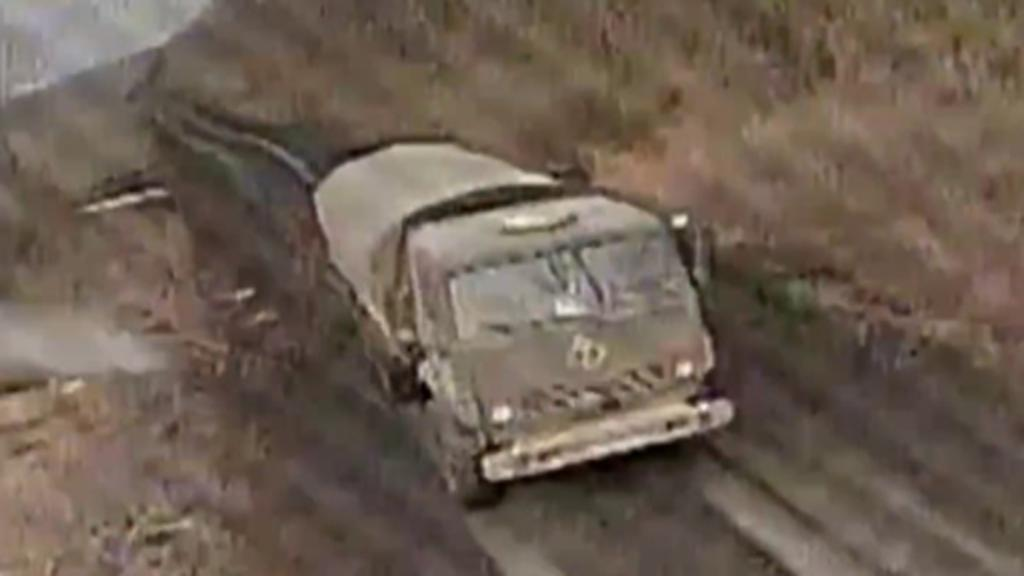TRUCK: (306, 131, 736, 506)
